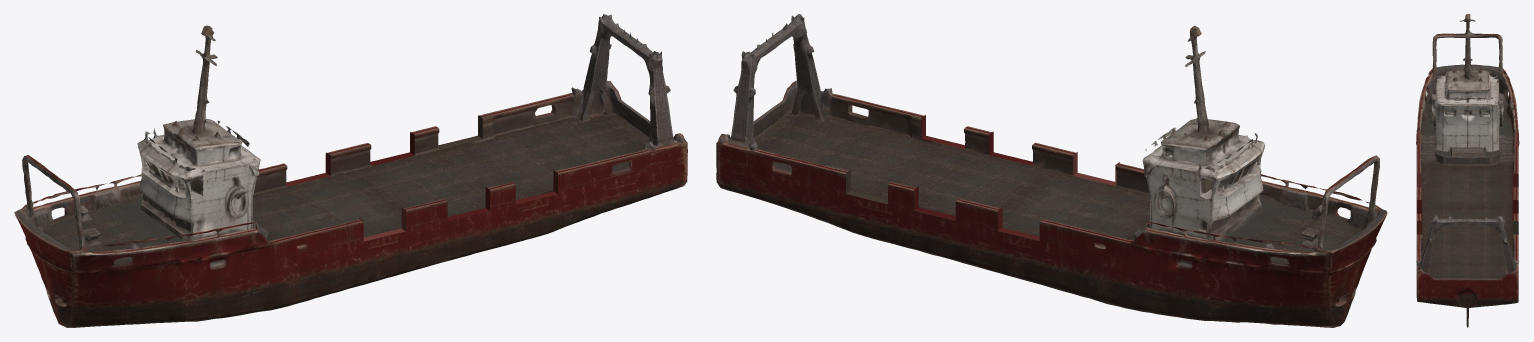
Rendered from m4_barco.glb.
The picture shows the model from 3 angles, left to right: view 1: azimuth 30°, elevation 25°; view 2: azimuth 150°, elevation 25°; view 3: azimuth 270°, elevation 25°; orthographic projection. The views are drawn at different scales.
Bounding box in the file's own units: 1.9 × 0.8271 × 0.4353.
Materials: 1 (1 with a texture image).
